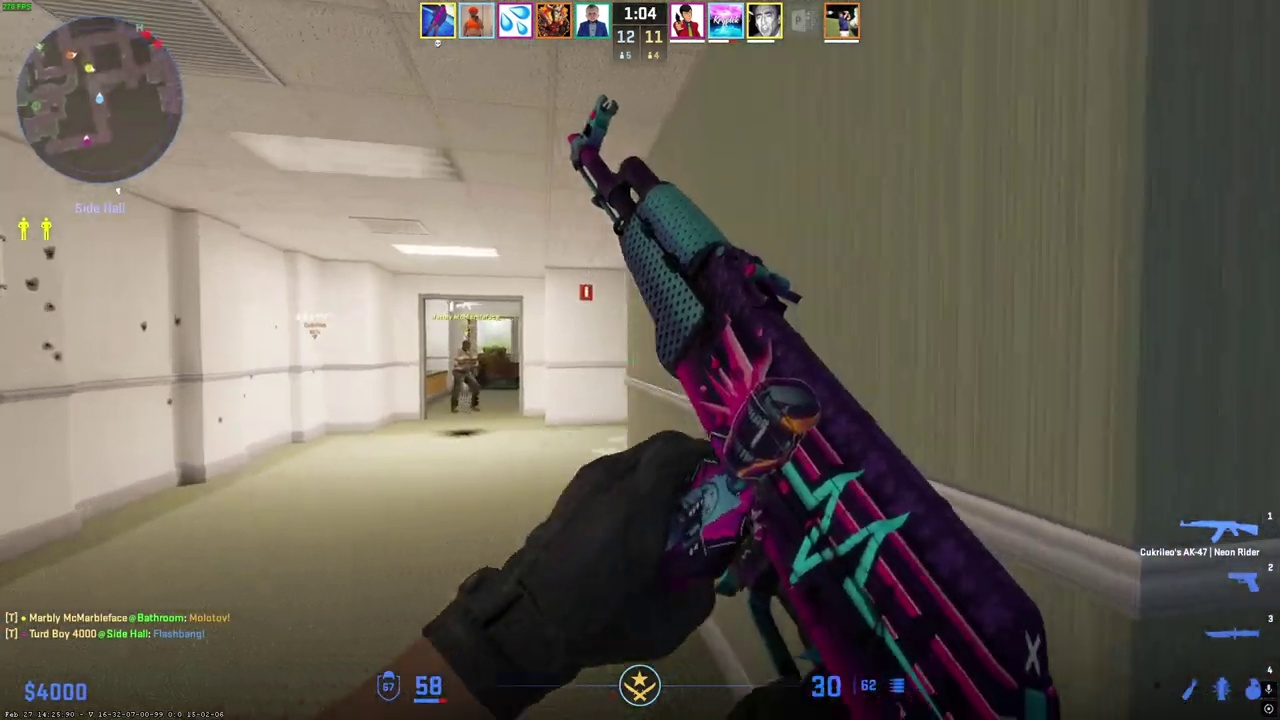Terrorist: (451, 340, 480, 413)
